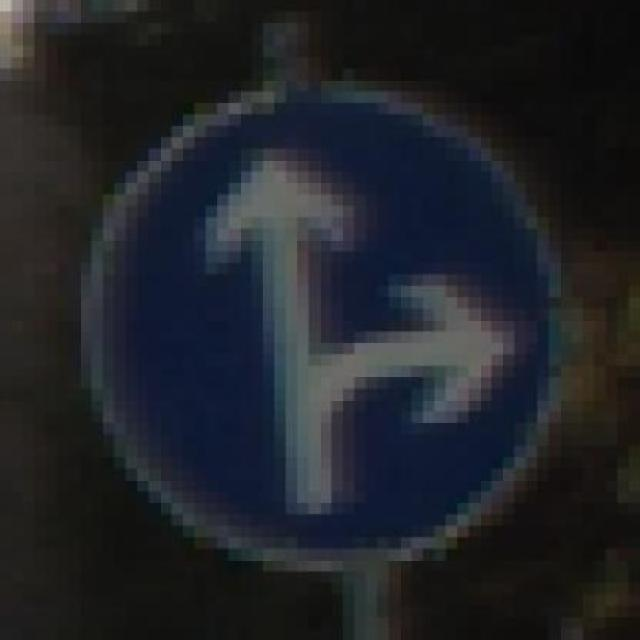Go Straight or Turn Right: (68, 57, 583, 583)
